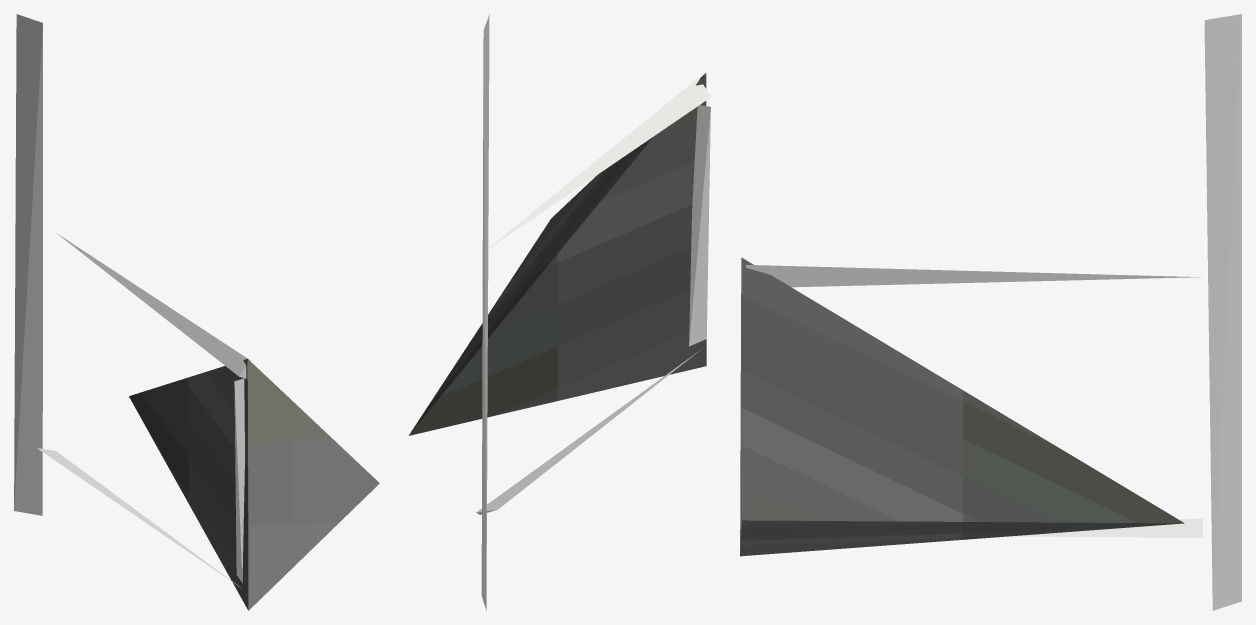
Rendered from zbbtlbdzx005-geode.glb.
3 views of the same model, side by side, from view 1: azimuth 30°, elevation 25°; view 2: azimuth 150°, elevation 25°; view 3: azimuth 270°, elevation 25° (orthographic). The views are drawn at different scales.
Visible parts, largest first — view 1: Node; view 2: Node; view 3: Node.
Part boxes in pixels (box(x1,y1,x2,y2)): Node: box(14, 14, 379, 610); Node: box(408, 14, 711, 610); Node: box(740, 14, 1241, 610).
Size of the model in its own units: 0.4135 by 1.26 by 0.9757.
Materials: 1 (1 with a texture image).
